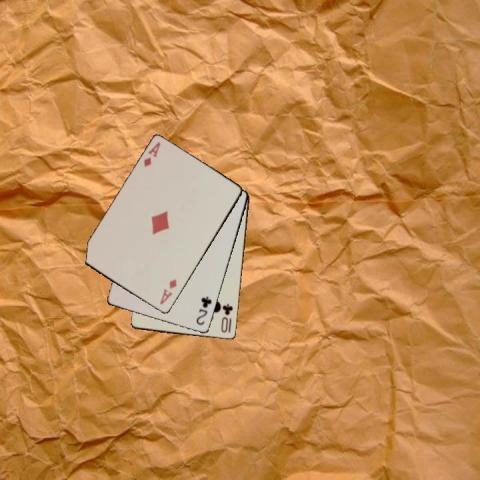10c: (218, 301, 234, 334)
2c: (194, 293, 214, 327)
Ad: (157, 276, 178, 306), (141, 139, 162, 169)
